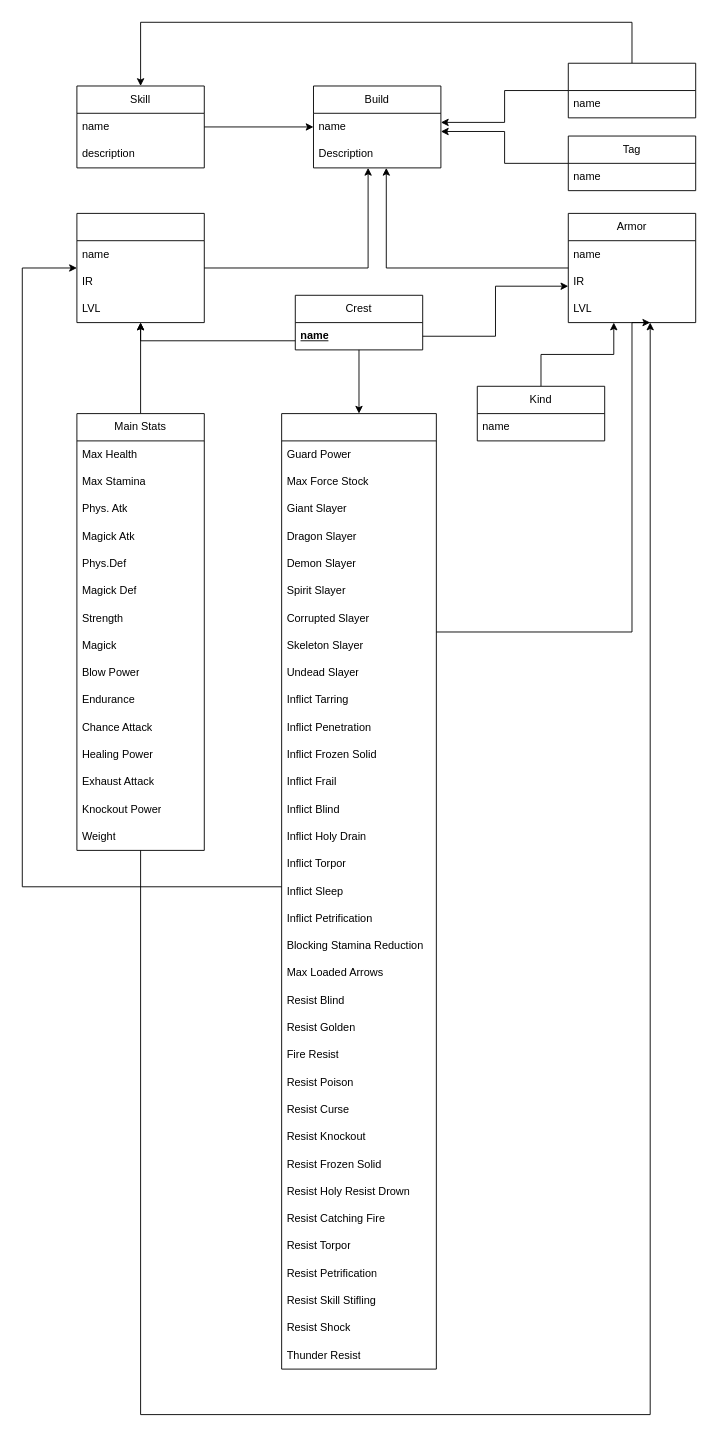
Image size: 712x1438. Some labels were removed from this diagram. The box of each missing label's shape, as (x1, y1, x2, y2) in pixels:
Stats: (281, 413, 436, 1369)
Vocation: (567, 62, 696, 118)
Weapon: (76, 212, 204, 323)
